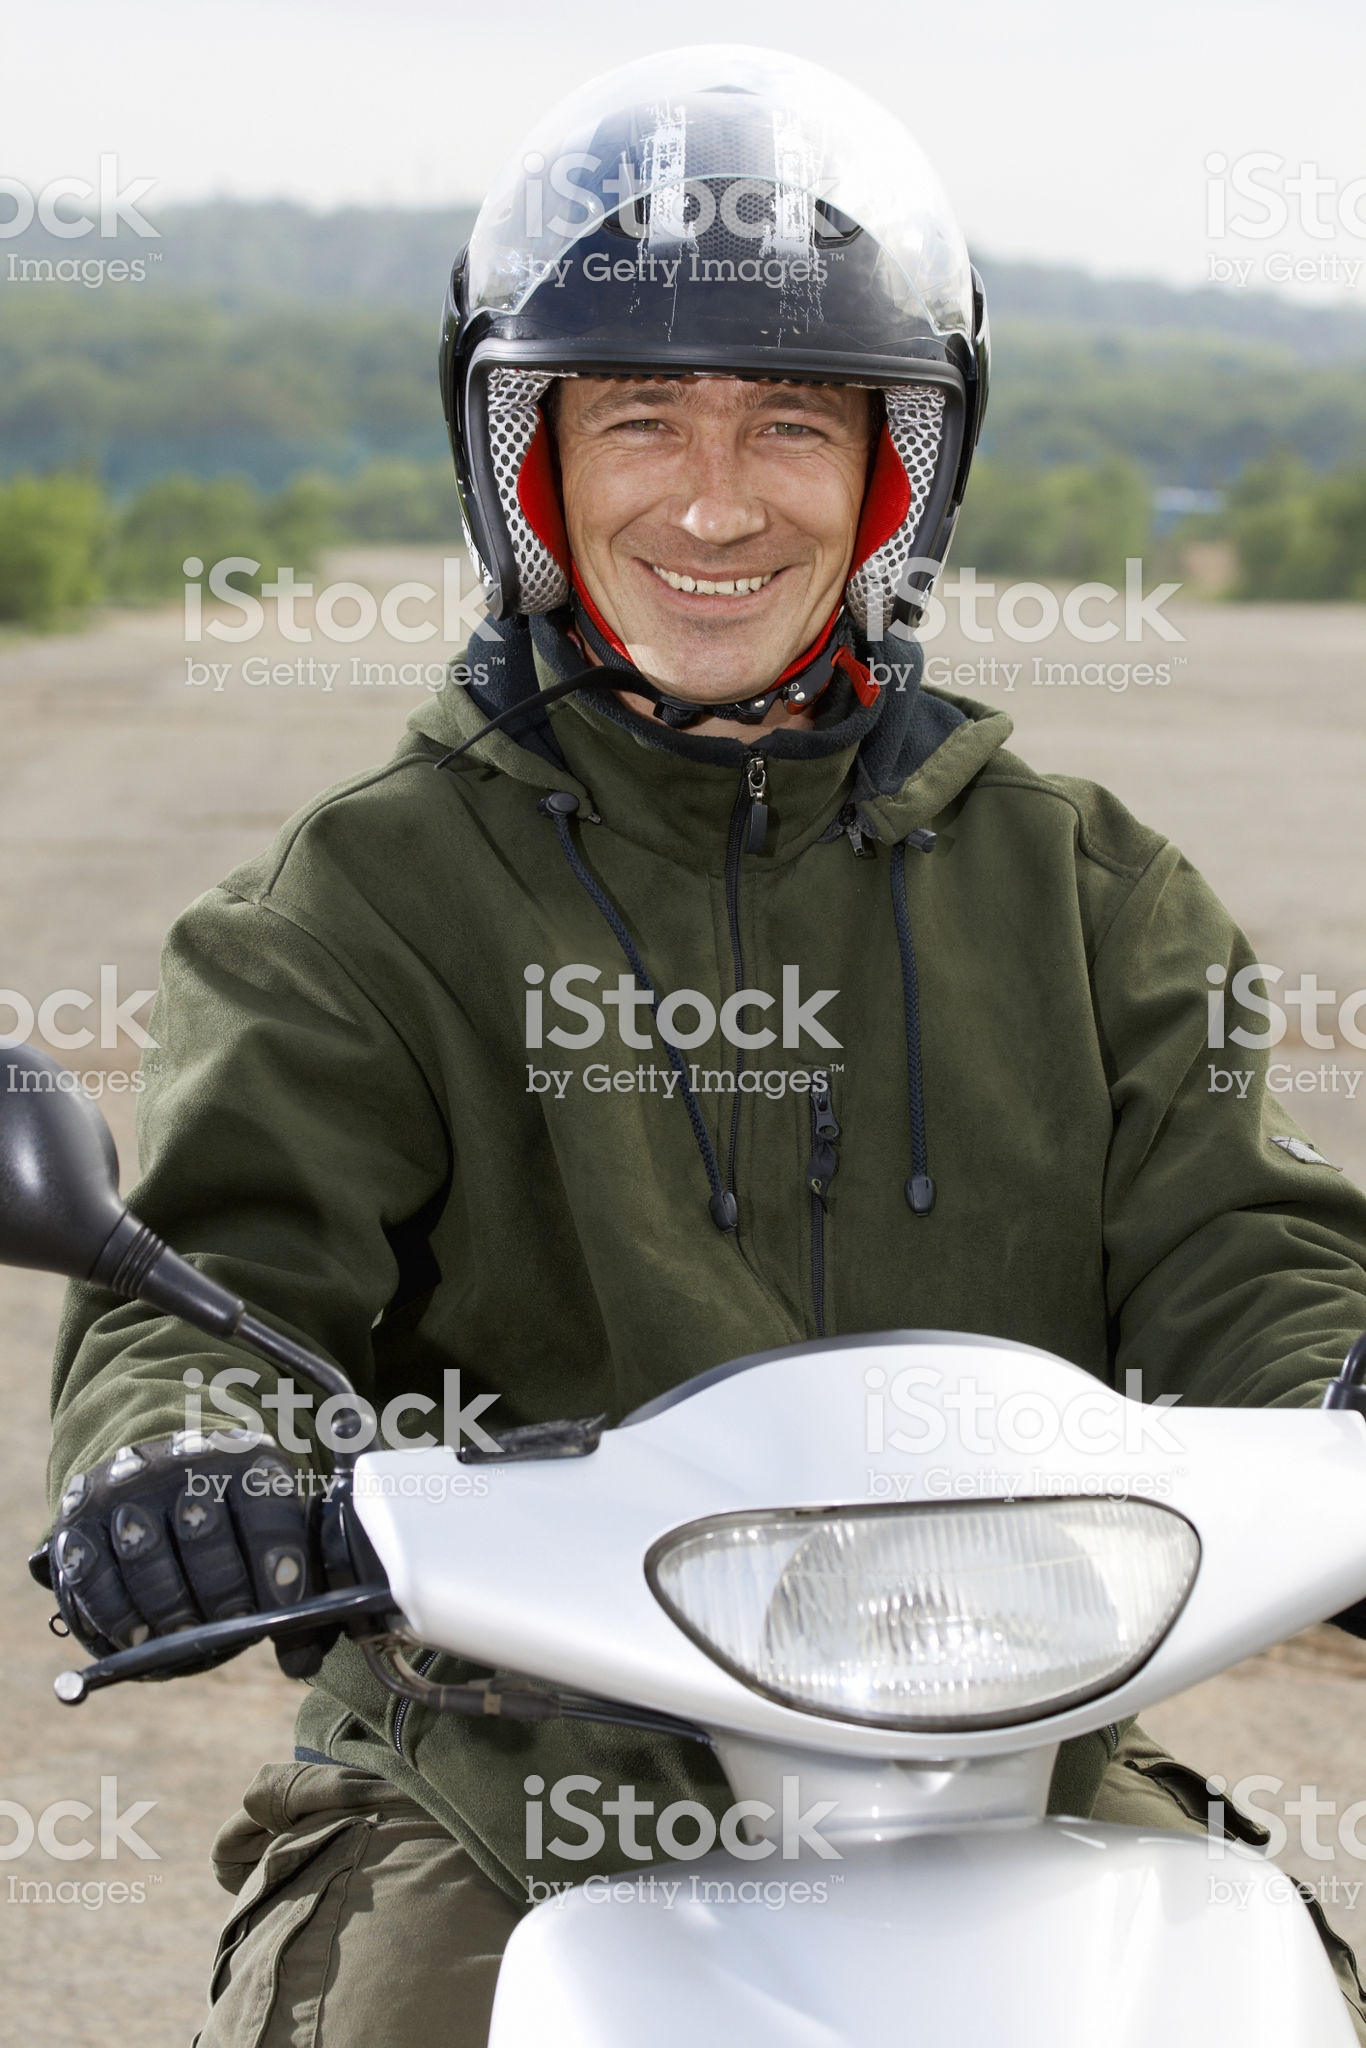helmet: (425, 53, 1012, 731)
